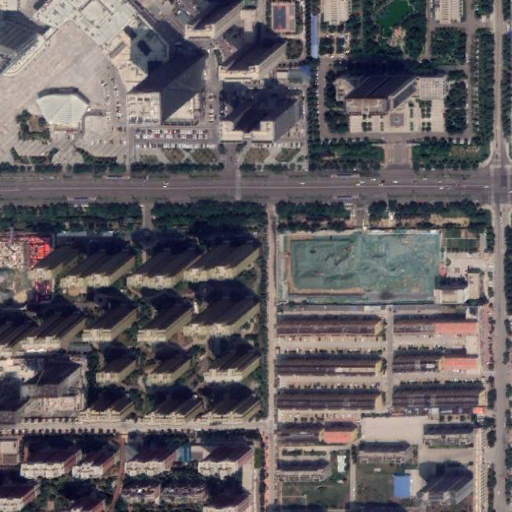cw: (280, 230, 438, 305)
